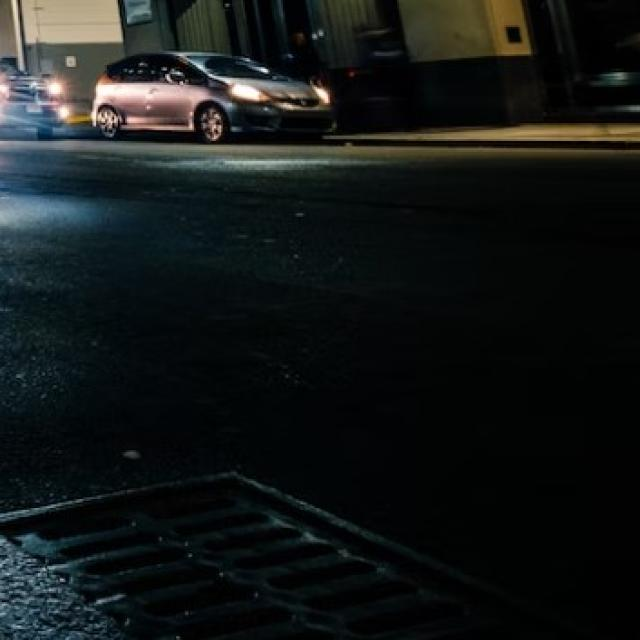car: (91, 48, 339, 149), (0, 51, 67, 138)
